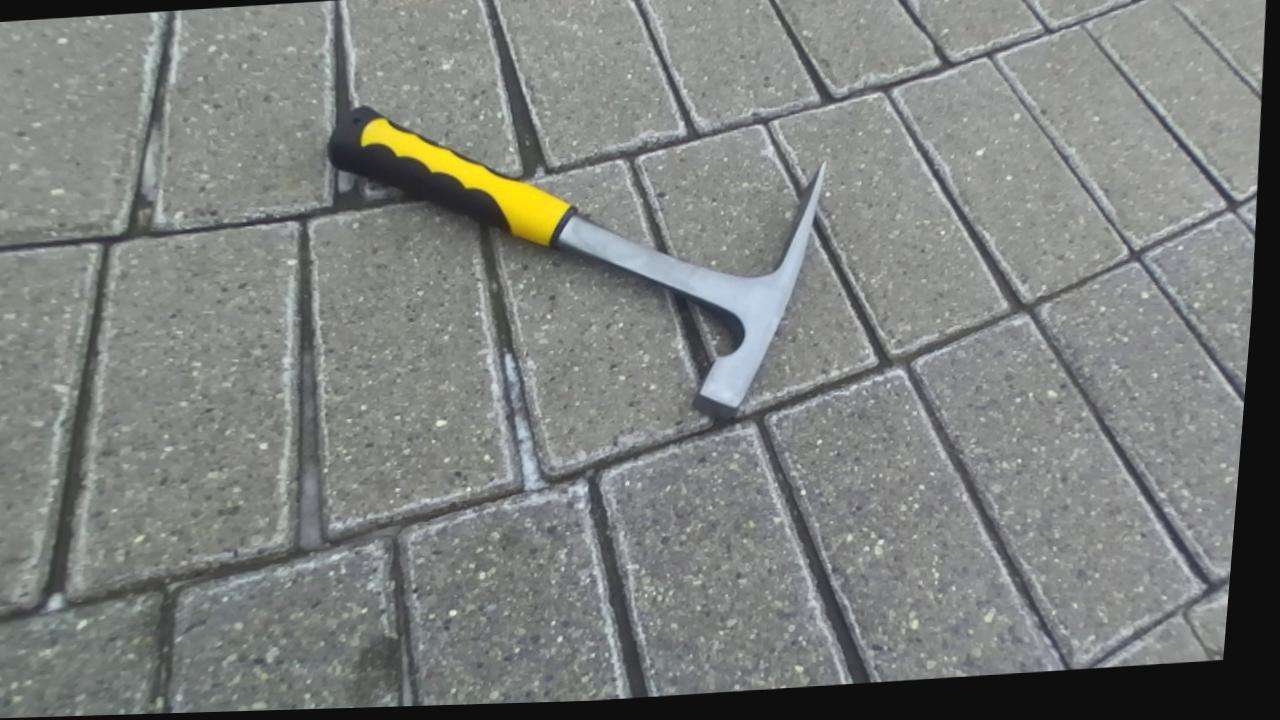pick: (328, 106, 824, 417)
